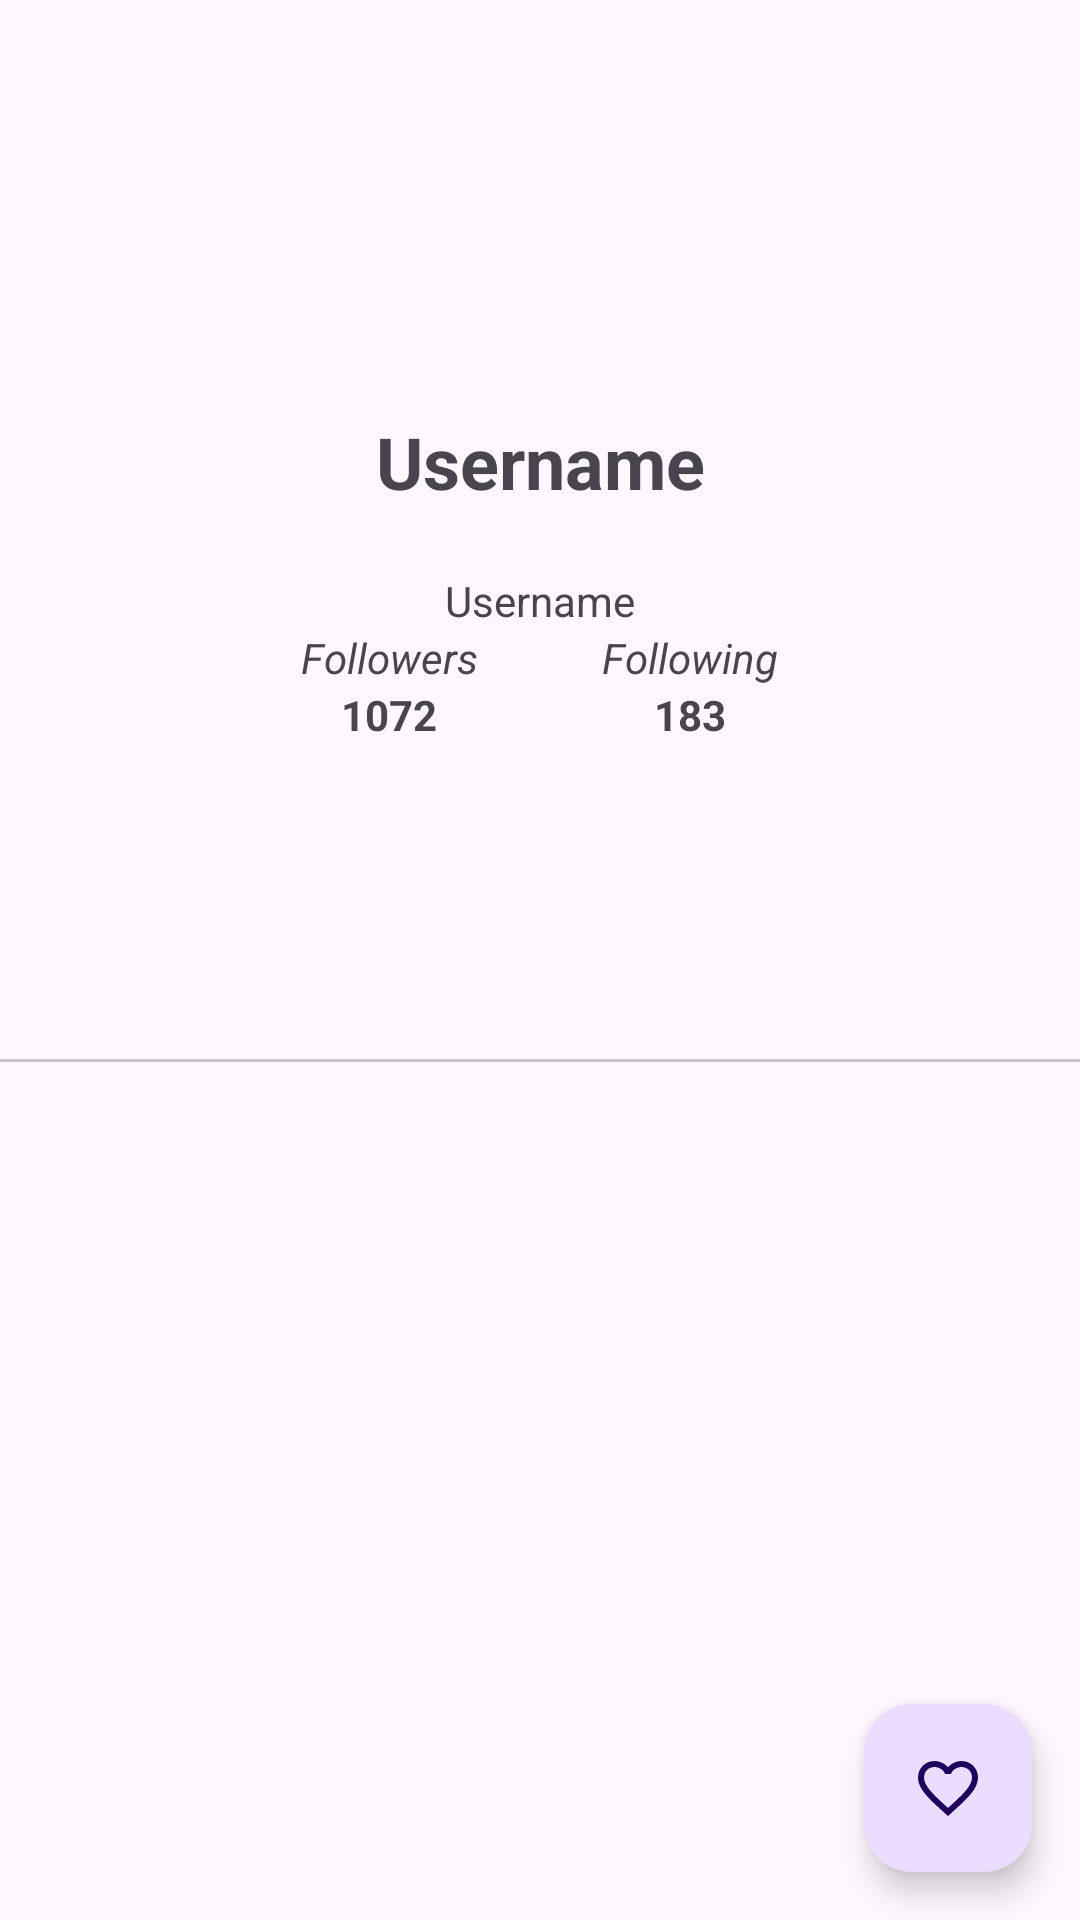

Locate icon controls on the screen. Image size 1080 x 1920, boxes as [x1,y1,x2,y2].
favorite border: [864,1704,1032,1872]
